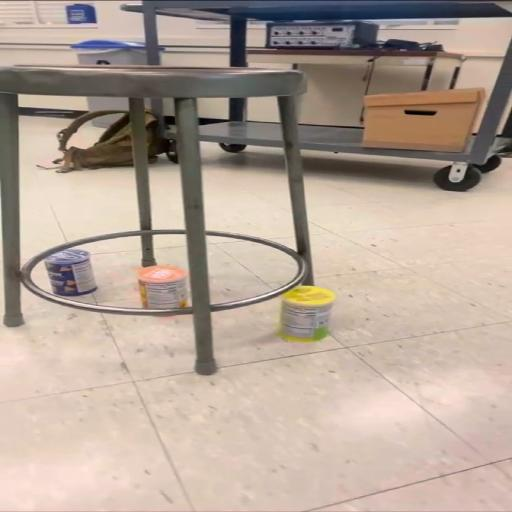pringle can: (279, 286, 335, 341), (45, 249, 97, 296), (138, 265, 187, 309)
